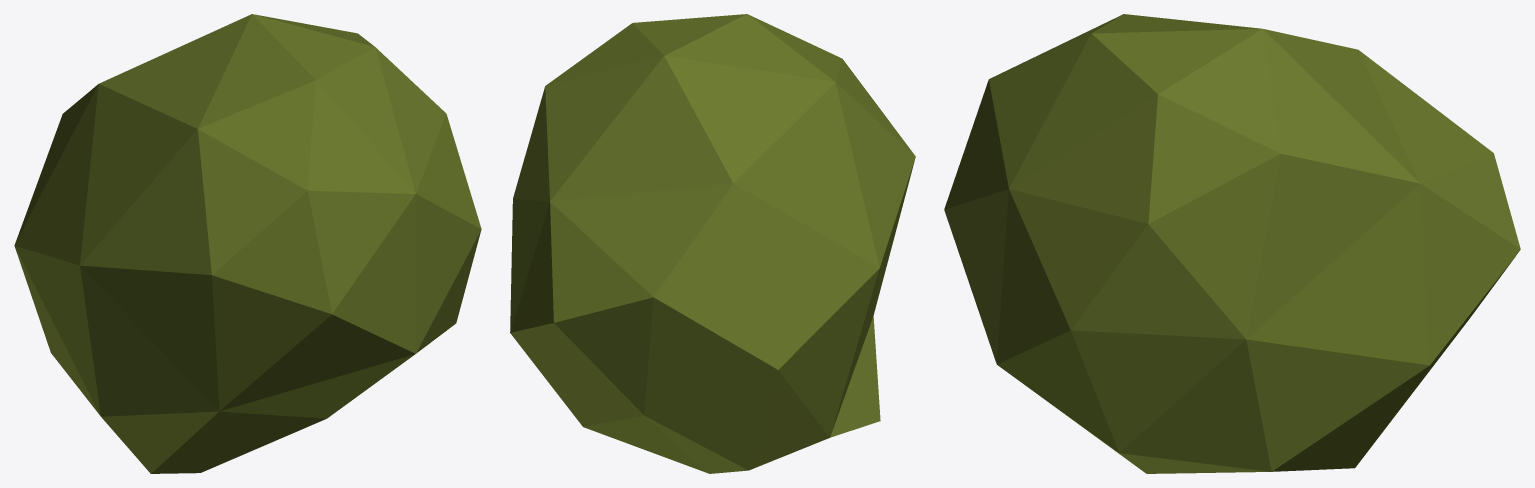
The model's file is EA03_Items_House_Apple_01c.glb.
3 renders of one model, left to right at view 1: azimuth 30°, elevation 25°; view 2: azimuth 150°, elevation 25°; view 3: azimuth 270°, elevation 25°, orthographic. The views are drawn at different scales.
Parts seen in each view (by area): view 1: EA03_Items_House_Apple_01c; view 2: EA03_Items_House_Apple_01c; view 3: EA03_Items_House_Apple_01c.
Part boxes in pixels (<box>): EA03_Items_House_Apple_01c: <box>14,14,481,473</box>; EA03_Items_House_Apple_01c: <box>510,14,915,473</box>; EA03_Items_House_Apple_01c: <box>944,14,1520,473</box>.
Bounding box in the file's own units: 0.152 × 0.1633 × 0.184.
1 material, 1 textured.
